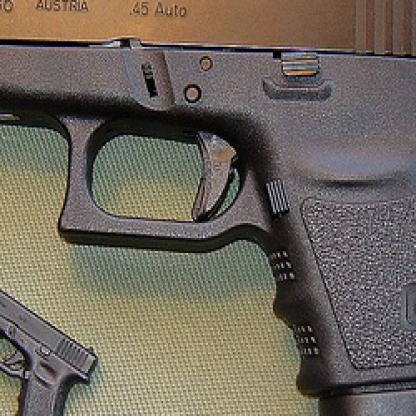gun: (0, 0, 415, 415), (0, 262, 97, 414)
